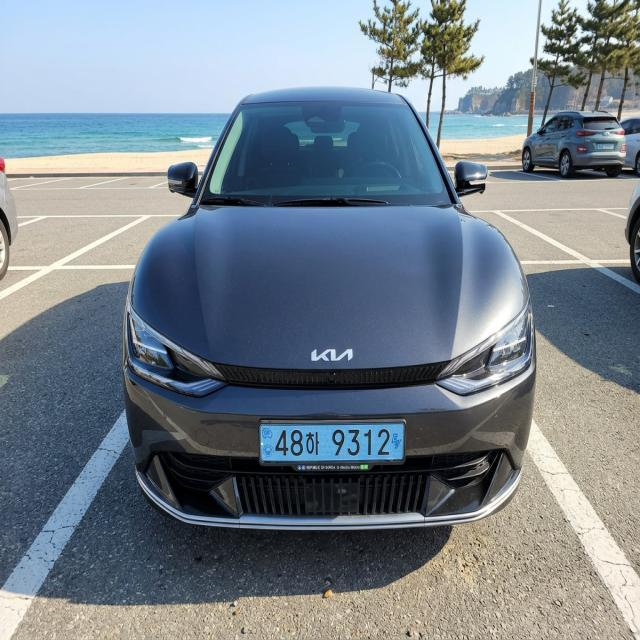car: (250, 416, 427, 476)
carev: (259, 425, 276, 462), (391, 430, 403, 452)
